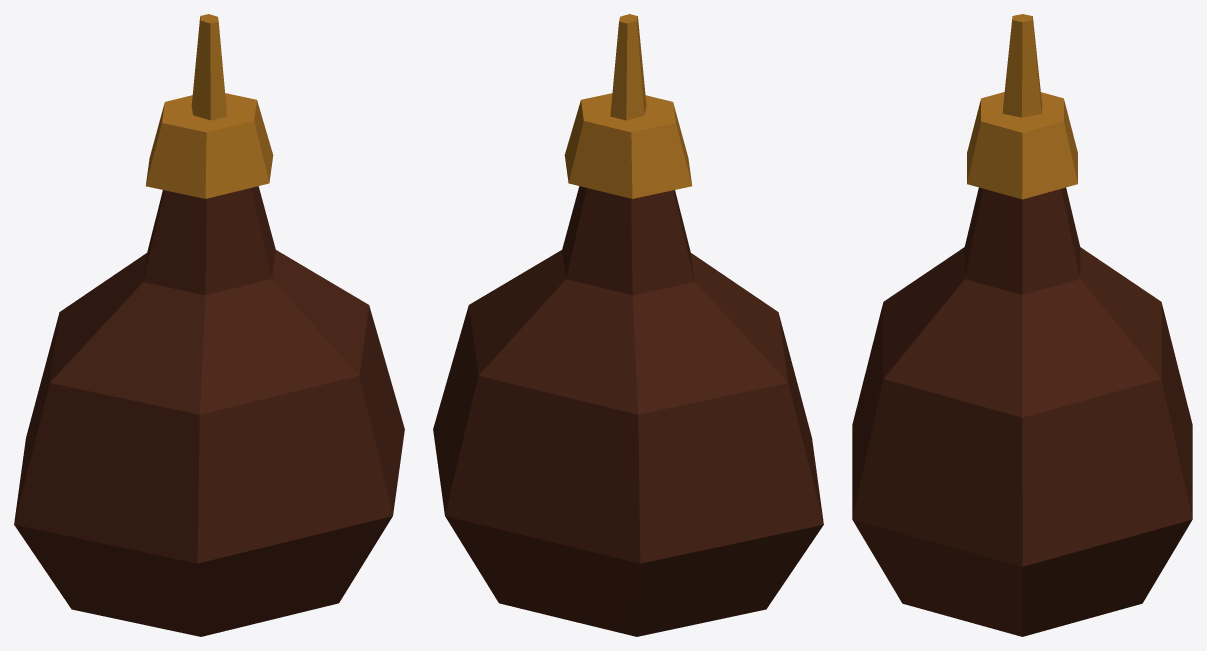
Rendered from Gunpowder.fbx.
The picture shows the model from 3 angles, left to right: view 1: azimuth 30°, elevation 25°; view 2: azimuth 150°, elevation 25°; view 3: azimuth 270°, elevation 25°; orthographic projection.
Parts seen in each view (by area): view 1: Gunpowder; view 2: Gunpowder; view 3: Gunpowder.
Boxes of the visible parts, bbox=[...] form: Gunpowder: bbox=[14, 14, 404, 636]; Gunpowder: bbox=[433, 14, 823, 636]; Gunpowder: bbox=[852, 14, 1192, 636].
Bounding box in the file's own units: 0.223 × 0.1697 × 0.3037.
